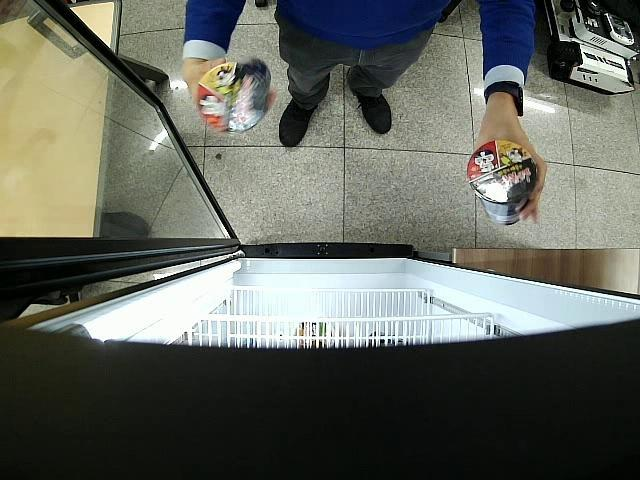08_buldak_S: (467, 139, 537, 224), (198, 58, 270, 136)
